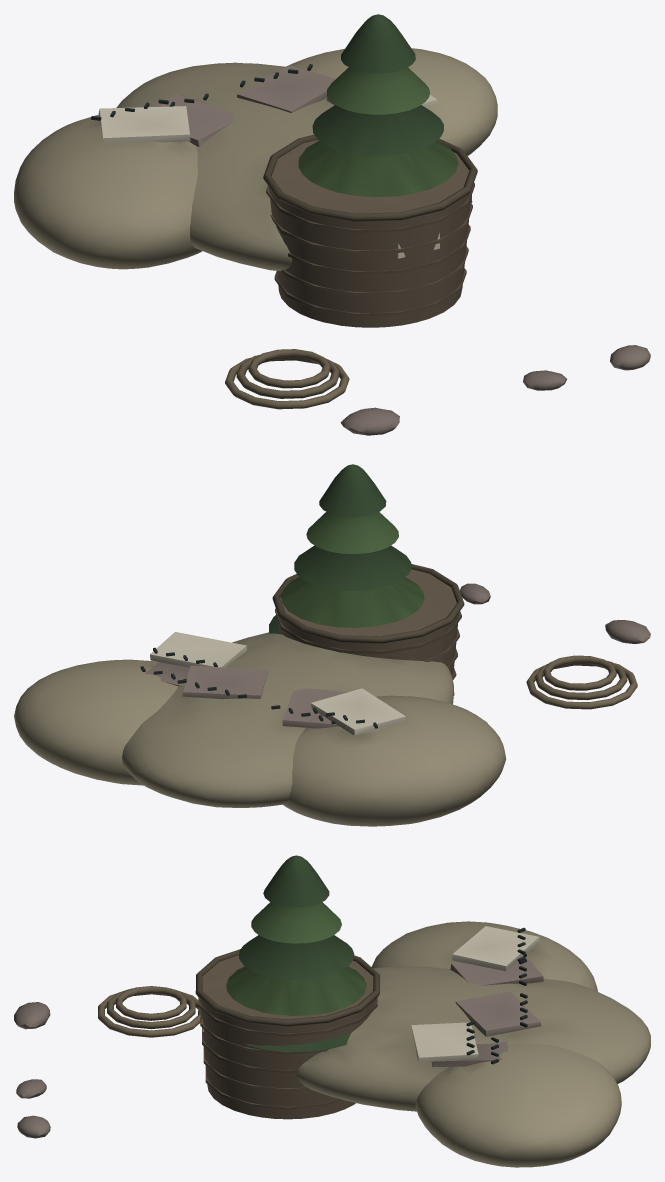
File: balloon_basket_wreck_c_lod1.glb
The picture shows the model from 3 angles, top to bottom: view 1: azimuth 30°, elevation 25°; view 2: azimuth 150°, elevation 25°; view 3: azimuth 270°, elevation 25°; orthographic projection. The views are drawn at different scales.
Parts seen in each view (by area): view 1: Surface.001; view 2: Surface.001; view 3: Surface.001.
Boxes of the visible parts, x1,y1,x2,y2 form: Surface.001: [14, 14, 650, 435]; Surface.001: [14, 464, 650, 826]; Surface.001: [14, 855, 650, 1167].
Bounding box in the file's own units: 5.76 × 3.1 × 7.46.
